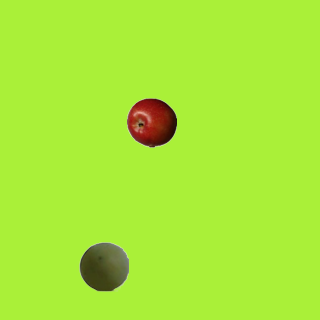Apple Braeburn: (126, 97, 176, 147)
Grape White 4: (78, 241, 128, 291)
